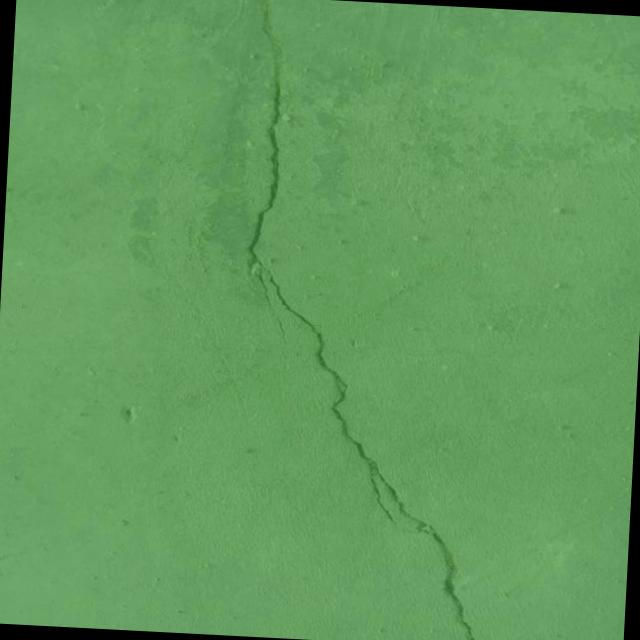crack: (223, 3, 513, 640)
